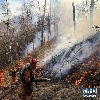fire: (75, 42, 99, 88), (33, 47, 57, 81)
